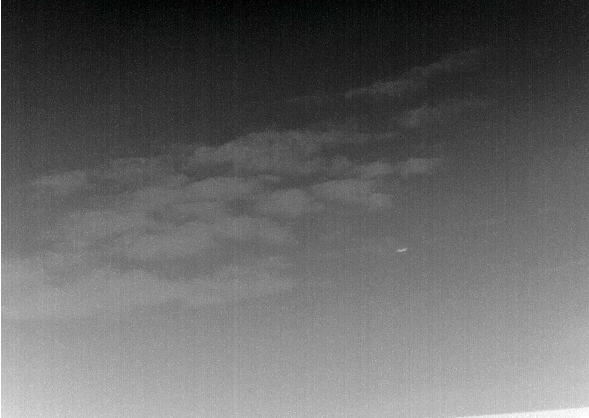dim target: (396, 247, 408, 253)
